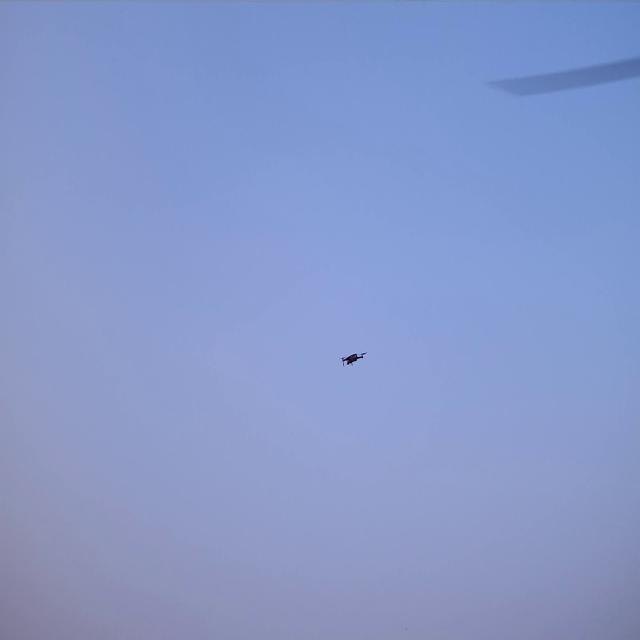UAV: (342, 353, 365, 365)
